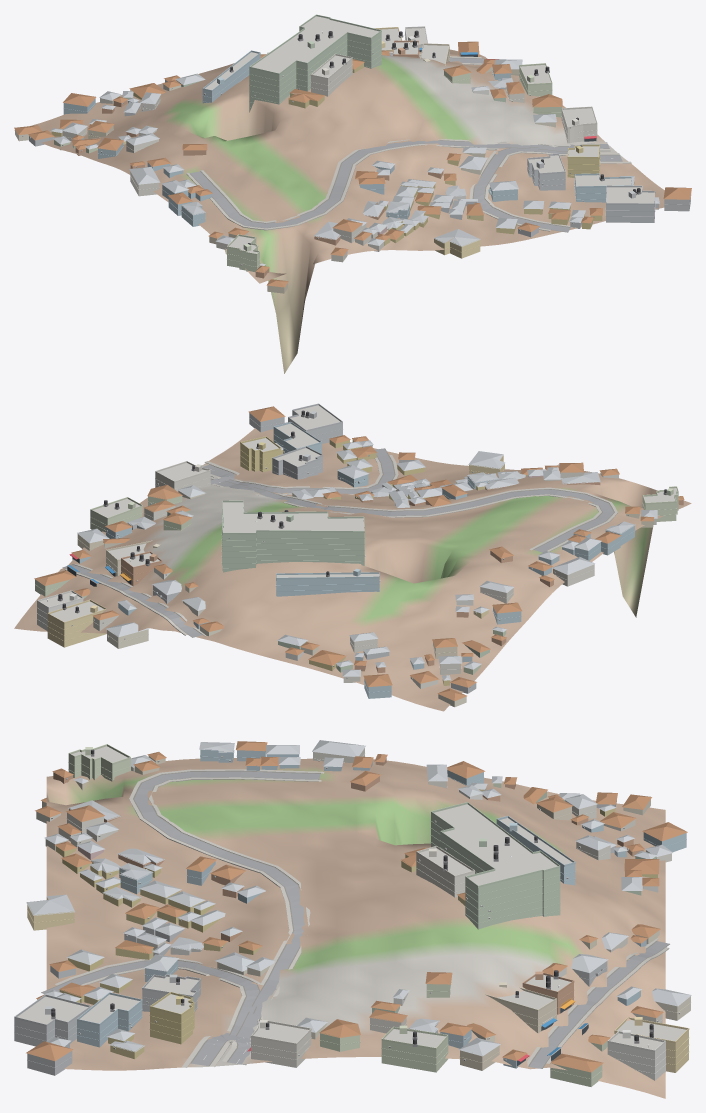
3 views of the same model, one above another, from view 1: azimuth 30°, elevation 25°; view 2: azimuth 150°, elevation 25°; view 3: azimuth 270°, elevation 25° (orthographic). The views are drawn at different scales.
Visible parts, largest first — view 1: Terrain-col, Buildings-col, Details, Roads-col, Sidewalks-col; view 2: Terrain-col, Buildings-col, Details, Roads-col, Sidewalks-col; view 3: Terrain-col, Buildings-col, Details, Roads-col, Sidewalks-col.
Boxes of the visible parts, left/top/right/bottom form: Terrain-col: left=14, top=49, right=664, bottom=373; Buildings-col: left=14, top=16, right=691, bottom=293; Details: left=22, top=14, right=691, bottom=267; Roads-col: left=190, top=53, right=622, bottom=232; Sidewalks-col: left=186, top=51, right=631, bottom=231; Terrain-col: left=14, top=428, right=691, bottom=711; Buildings-col: left=34, top=405, right=684, bottom=707; Details: left=35, top=403, right=678, bottom=692; Roads-col: left=62, top=448, right=614, bottom=637; Sidewalks-col: left=65, top=455, right=617, bottom=636; Terrain-col: left=46, top=758, right=665, bottom=1098; Buildings-col: left=14, top=740, right=691, bottom=1086; Details: left=14, top=744, right=690, bottom=1079; Roads-col: left=41, top=771, right=669, bottom=1068; Sidewalks-col: left=55, top=769, right=669, bottom=1067.
Size of the model in its own units: 273 by 99.37 by 280.
